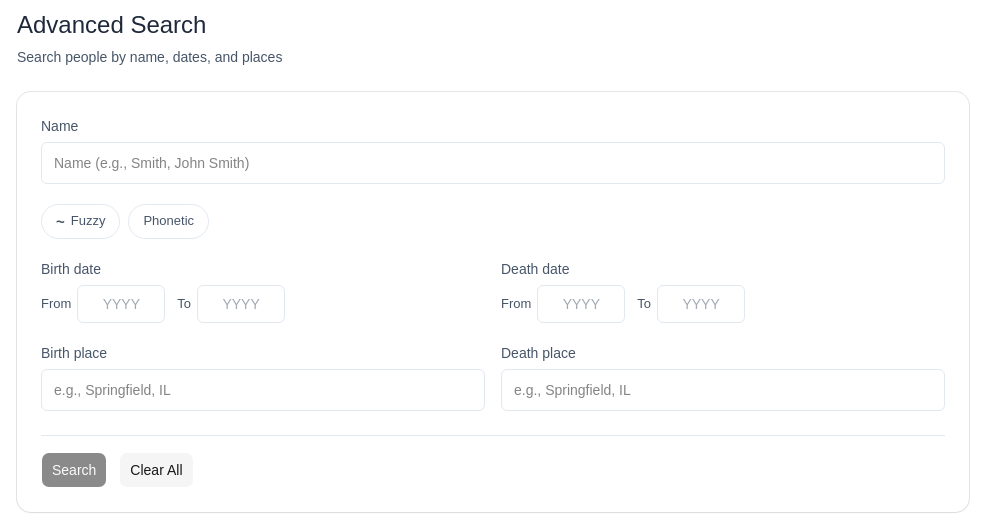
Test: Advanced Search Page › Form Interactions › typing in name input enables Search button
The width and height of the screenshot is (987, 530).
Expected: the button "Search" is disabled, [41,452,107,488]
Type "Smith" into the field with placeholder "Name (e.g., Smith, John Smith)" at coordinates (493, 163), box [41,142,945,184]
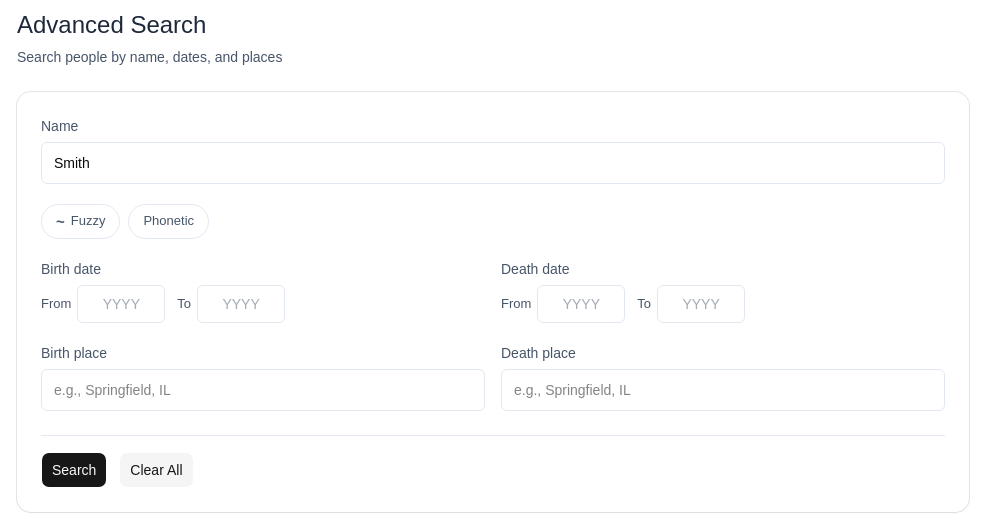
Expected: the button "Search" is enabled, [41,452,107,488]
